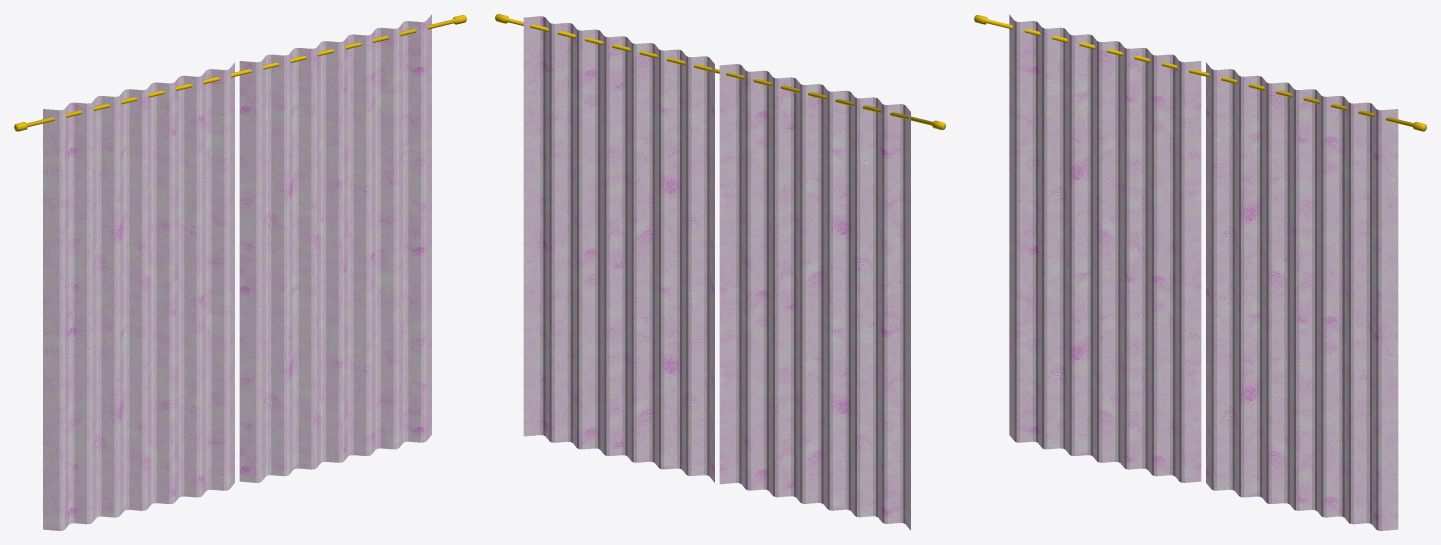
Rendered from curtain-7.glb.
3 views of the same model, side by side, from view 1: azimuth 30°, elevation 25°; view 2: azimuth 150°, elevation 25°; view 3: azimuth 330°, elevation 25° (orthographic).
Parts seen in each view (by area): view 1: vip-curtains_0; view 2: vip-curtains_0; view 3: vip-curtains_0.
Boxes of the visible parts, x1,y1,x2,y2 form: vip-curtains_0: [14, 14, 466, 530]; vip-curtains_0: [495, 14, 945, 530]; vip-curtains_0: [974, 14, 1426, 530].
Size of the model in its own units: 9.85 by 8.8 by 0.2312.
2 materials, 1 textured.
